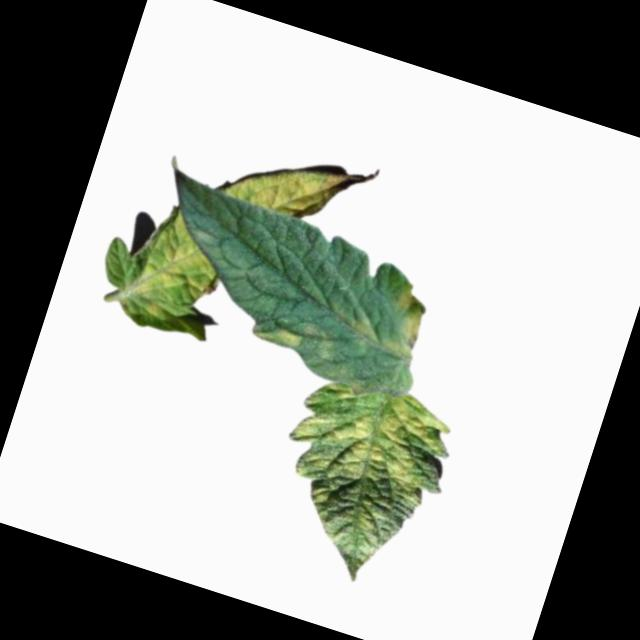Leaf_Mold: (280, 364, 457, 510), (224, 134, 353, 232), (134, 207, 233, 332), (341, 268, 435, 365), (255, 304, 339, 365)
